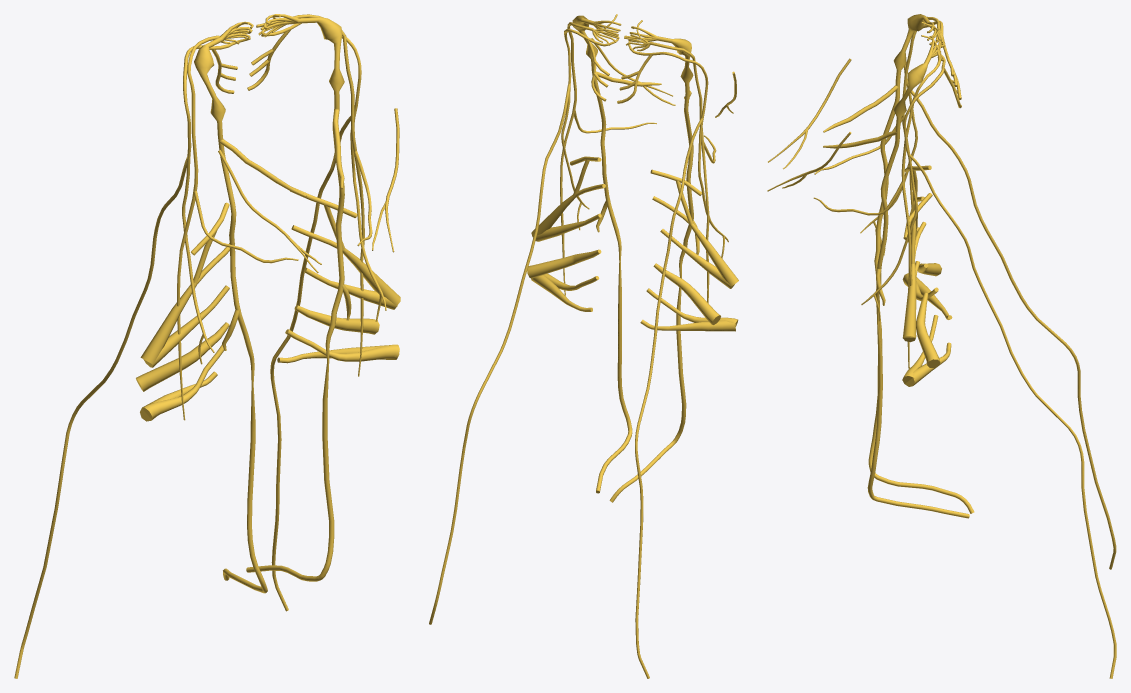
File: nervous_peripheral.neck.glb
3 views of the same model, side by side, from view 1: azimuth 30°, elevation 25°; view 2: azimuth 150°, elevation 25°; view 3: azimuth 270°, elevation 25° (orthographic). The views are drawn at different scales.
Parts seen in each view (by area): view 1: right_roots_of_brachial_plexus, left_vagus_nerve_x, right_vagus_nerve_x, left_roots_of_brachial_plexus, right_accessory_nerve_xi, left_accessory_nerve_xi, right_glossopharyngeal_nerve_ix, left_glossopharyngeal_nerve_ix, left_nerve_to_mylohyoid_muscle, right_nerve_to_mylohyoid_muscle; view 2: right_roots_of_brachial_plexus, right_accessory_nerve_xi, left_accessory_nerve_xi, left_roots_of_brachial_plexus, left_vagus_nerve_x, right_vagus_nerve_x, left_glossopharyngeal_nerve_ix, right_glossopharyngeal_nerve_ix; view 3: left_vagus_nerve_x, left_accessory_nerve_xi, right_vagus_nerve_x, left_roots_of_brachial_plexus, right_accessory_nerve_xi, left_glossopharyngeal_nerve_ix, right_roots_of_brachial_plexus, right_glossopharyngeal_nerve_ix.
Part boxes in pixels (x1,y1,x2,y2): right_roots_of_brachial_plexus: (136,202,229,421); left_vagus_nerve_x: (246,14,351,581); right_vagus_nerve_x: (194,21,306,593); left_roots_of_brachial_plexus: (277,187,400,363); right_accessory_nerve_xi: (14,37,250,678); left_accessory_nerve_xi: (247,23,386,611); right_glossopharyngeal_nerve_ix: (177,22,298,420); left_glossopharyngeal_nerve_ix: (256,14,372,376); left_nerve_to_mylohyoid_muscle: (372,108,399,252); right_nerve_to_mylohyoid_muscle: (218,150,321,273); right_roots_of_brachial_plexus: (640,169,738,331); right_accessory_nerve_xi: (617,41,728,678); left_accessory_nerve_xi: (429,28,619,624); left_roots_of_brachial_plexus: (527,156,605,311); left_vagus_nerve_x: (572,15,661,493); right_vagus_nerve_x: (609,26,699,502); left_glossopharyngeal_nerve_ix: (560,14,656,295); right_glossopharyngeal_nerve_ix: (624,20,716,302); left_vagus_nerve_x: (823,36,969,518); left_accessory_nerve_xi: (861,54,1116,678); right_vagus_nerve_x: (823,14,974,513); left_roots_of_brachial_plexus: (902,193,951,386); right_accessory_nerve_xi: (860,20,1116,569); left_glossopharyngeal_nerve_ix: (813,35,944,368); right_roots_of_brachial_plexus: (902,165,952,319); right_glossopharyngeal_nerve_ix: (814,16,943,289).
Size of the model in its own units: 0.1169 by 0.2883 by 0.1531.
